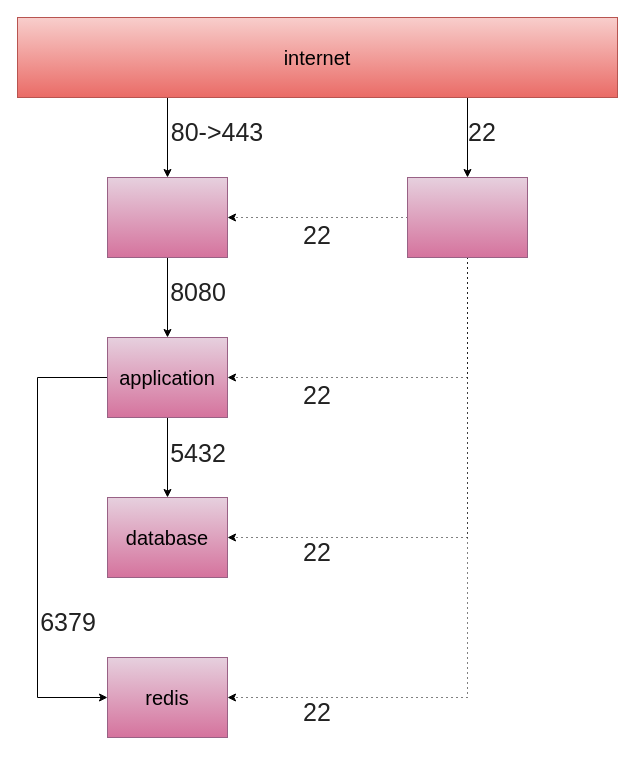
Some shapes in this 635 by 761 pixel diagram are drawn without their labels. Each missing label, with the centre of its shape:
bastion: the point at 467,217
frontend: the point at 167,217
